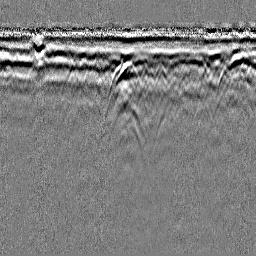cavity: (105, 59, 148, 114)
